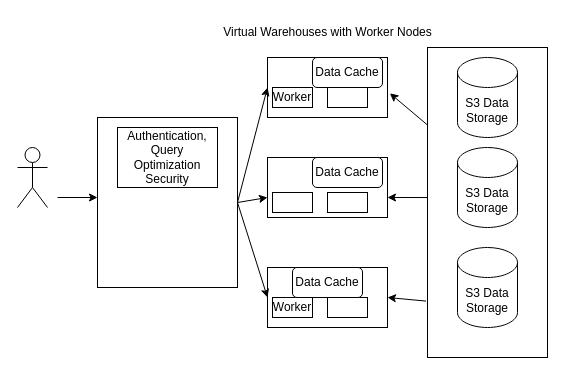
The diagram is 565 pixels wide and 375 high, and some of its shapes have lost their labels. Here are the shapes that lost their labels. From the top down, the box of each, then its label:
(16, 146, 48, 208): User
(96, 116, 238, 288): Cloud Services
